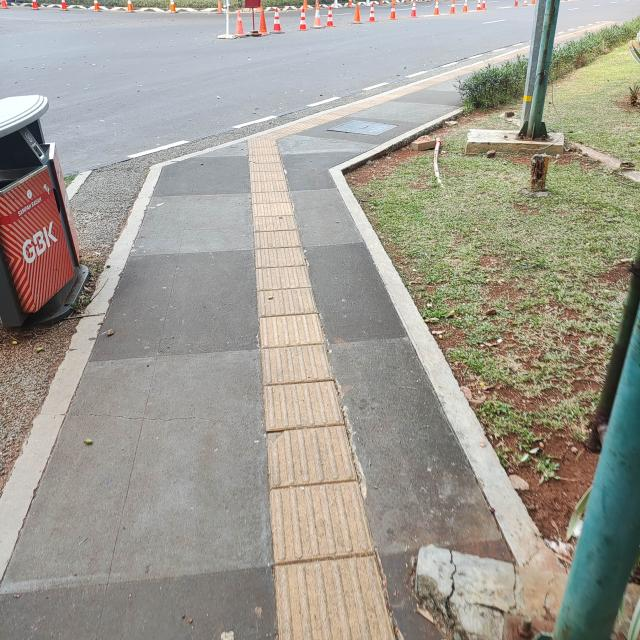lurus: (239, 162, 376, 640)
